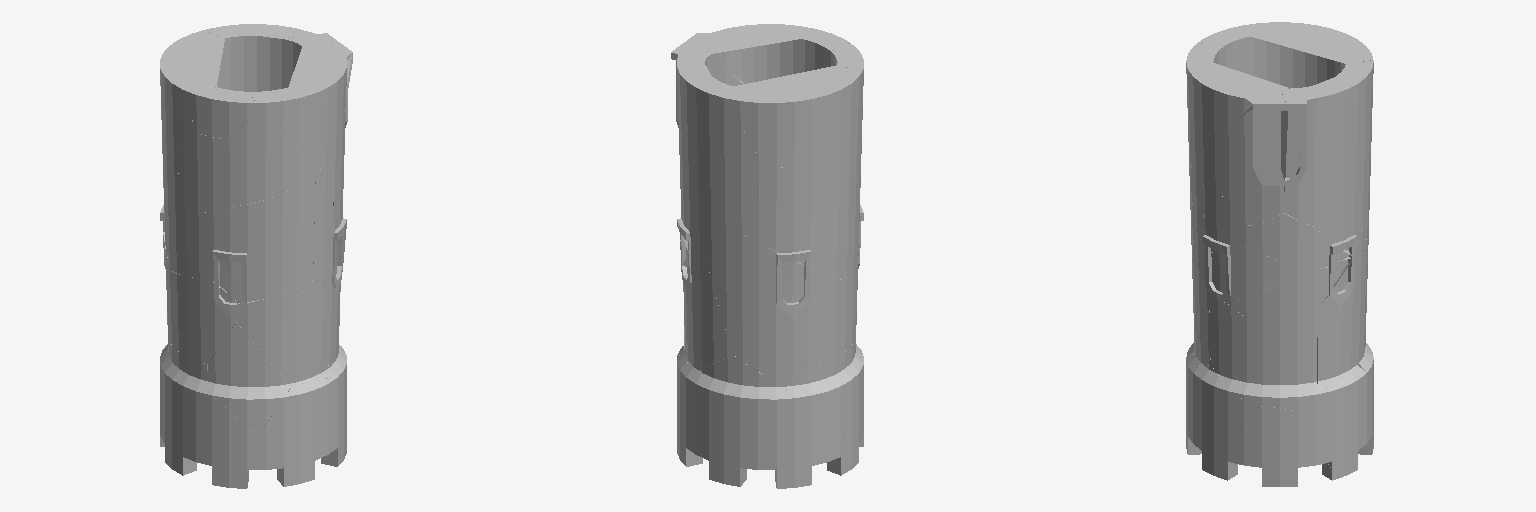
File: destruction_tower_000001.obj
3 views of the same model, side by side, from view 1: azimuth 30°, elevation 25°; view 2: azimuth 150°, elevation 25°; view 3: azimuth 270°, elevation 25° (orthographic).
Visible parts, largest first — view 1: tower.001_cell.024_Mesh.024, tower.001_cell.028_Mesh.028, tower.001_cell.021_Mesh.021, tower.001_cell.006_Mesh.006, tower.001_cell.011_Mesh.011, tower.001_cell.013_Mesh.013, tower.001_cell.002_Mesh.002, tower.001_cell.015_Mesh.015, tower.001_cell.009_Mesh.009, tower.001_cell.017_Mesh.017, tower.001_cell.003_Mesh.003, tower.001_cell.014_Mesh.014 (+9 smaller); view 2: tower.001_cell.025_Mesh.025, tower.001_cell.017_Mesh.017, tower.001_cell.007_Mesh.007, tower.001_cell.015_Mesh.015, tower.001_cell.003_Mesh.003, tower.001_cell.028_Mesh.028, tower.001_cell.005_Mesh.005, tower.001_cell.012_Mesh.012, tower.001_cell.009_Mesh.009, tower.001_cell.029_Mesh.029, tower.001_cell.006_Mesh.006, tower.001_cell.026_Mesh.026 (+1 smaller); view 3: tower.001_cell.017_Mesh.017, tower.001_cell.020_Mesh.020, tower.001_cell.015_Mesh.015, tower.001_cell.028_Mesh.028, tower.001_cell.030_Mesh.030, tower.001_cell.029_Mesh.029, tower.001_cell.012_Mesh.012, tower.001_cell_Mesh, tower.001_cell.016_Mesh.016, tower.001_cell.023_Mesh.023, tower.001_cell.027_Mesh.027, tower.001_cell.026_Mesh.026 (+8 smaller).
Part boxes in pixels (x1,y1,x2,y2): tower.001_cell.024_Mesh.024: (211,175,315,302); tower.001_cell.028_Mesh.028: (249,46,352,170); tower.001_cell.021_Mesh.021: (236,280,332,385); tower.001_cell.006_Mesh.006: (163,391,255,488); tower.001_cell.011_Mesh.011: (256,375,329,486); tower.001_cell.013_Mesh.013: (206,322,290,435); tower.001_cell.002_Mesh.002: (230,110,317,206); tower.001_cell.015_Mesh.015: (160,30,224,157); tower.001_cell.009_Mesh.009: (167,271,235,363); tower.001_cell.017_Mesh.017: (204,24,311,91); tower.001_cell.003_Mesh.003: (160,141,210,278); tower.001_cell.014_Mesh.014: (172,132,229,217); tower.001_cell.025_Mesh.025: (707,235,838,382); tower.001_cell.017_Mesh.017: (677,58,762,262); tower.001_cell.007_Mesh.007: (696,356,813,488); tower.001_cell.015_Mesh.015: (727,65,861,167); tower.001_cell.003_Mesh.003: (743,163,860,280); tower.001_cell.028_Mesh.028: (697,24,849,83); tower.001_cell.005_Mesh.005: (784,339,863,465); tower.001_cell.012_Mesh.012: (680,254,733,368); tower.001_cell.009_Mesh.009: (802,247,860,366); tower.001_cell.029_Mesh.029: (677,356,700,466); tower.001_cell.006_Mesh.006: (827,358,863,475); tower.001_cell.026_Mesh.026: (671,46,721,127); tower.001_cell.017_Mesh.017: (1314,60,1373,256); tower.001_cell.020_Mesh.020: (1200,97,1287,225); tower.001_cell.015_Mesh.015: (1250,22,1372,87); tower.001_cell.028_Mesh.028: (1186,43,1289,155); tower.001_cell.030_Mesh.030: (1212,406,1327,486); tower.001_cell.029_Mesh.029: (1297,362,1366,478); tower.001_cell.012_Mesh.012: (1318,246,1366,390); tower.001_cell_Mesh: (1209,296,1269,406); tower.001_cell.016_Mesh.016: (1266,308,1320,410); tower.001_cell.023_Mesh.023: (1195,365,1257,474); tower.001_cell.027_Mesh.027: (1227,258,1352,332); tower.001_cell.026_Mesh.026: (1280,85,1313,225).
Size of the model in its own units: 44.14 by 97.11 by 42.8.